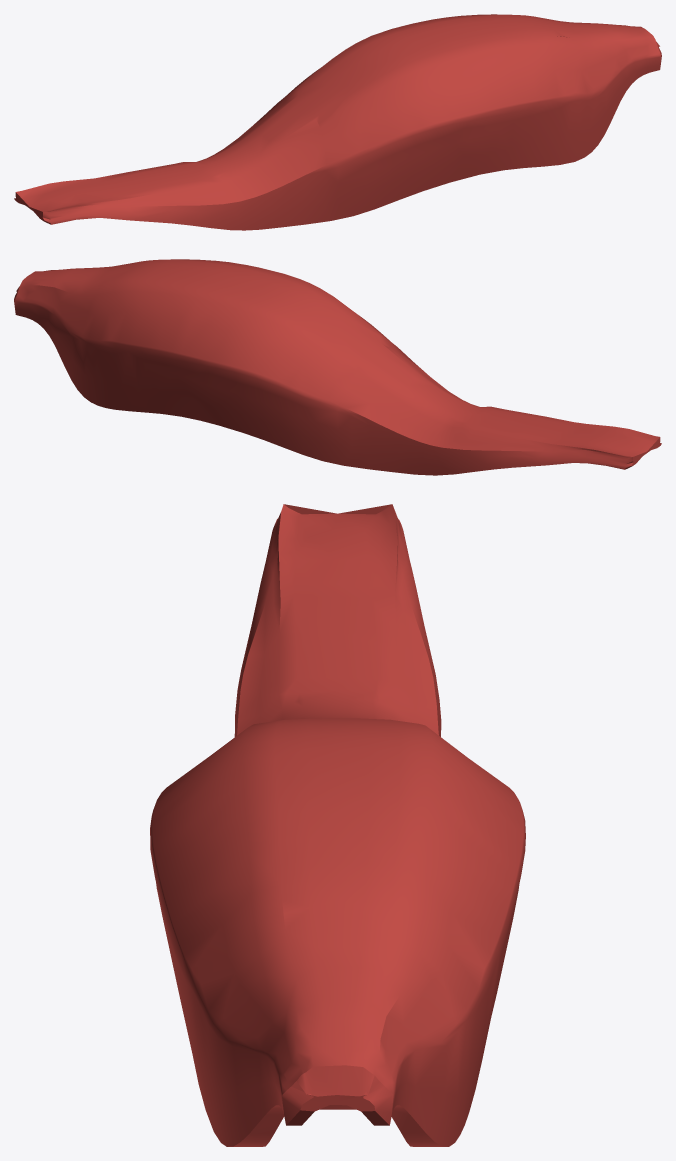
Rendered from adventure_4_lod2.glb.
3 views of the same model, one above another, from view 1: azimuth 30°, elevation 25°; view 2: azimuth 150°, elevation 25°; view 3: azimuth 270°, elevation 25° (orthographic). The views are drawn at different scales.
Visible parts, largest first — view 1: adventure_4_lod2; view 2: adventure_4_lod2; view 3: adventure_4_lod2.
Part boxes in pixels (left/top/right/bottom): adventure_4_lod2: left=14, top=14, right=661, bottom=230; adventure_4_lod2: left=14, top=259, right=661, bottom=475; adventure_4_lod2: left=150, top=504, right=525, bottom=1146.
Bounding box in the file's own units: 1.7 × 0.3344 × 0.4432.
